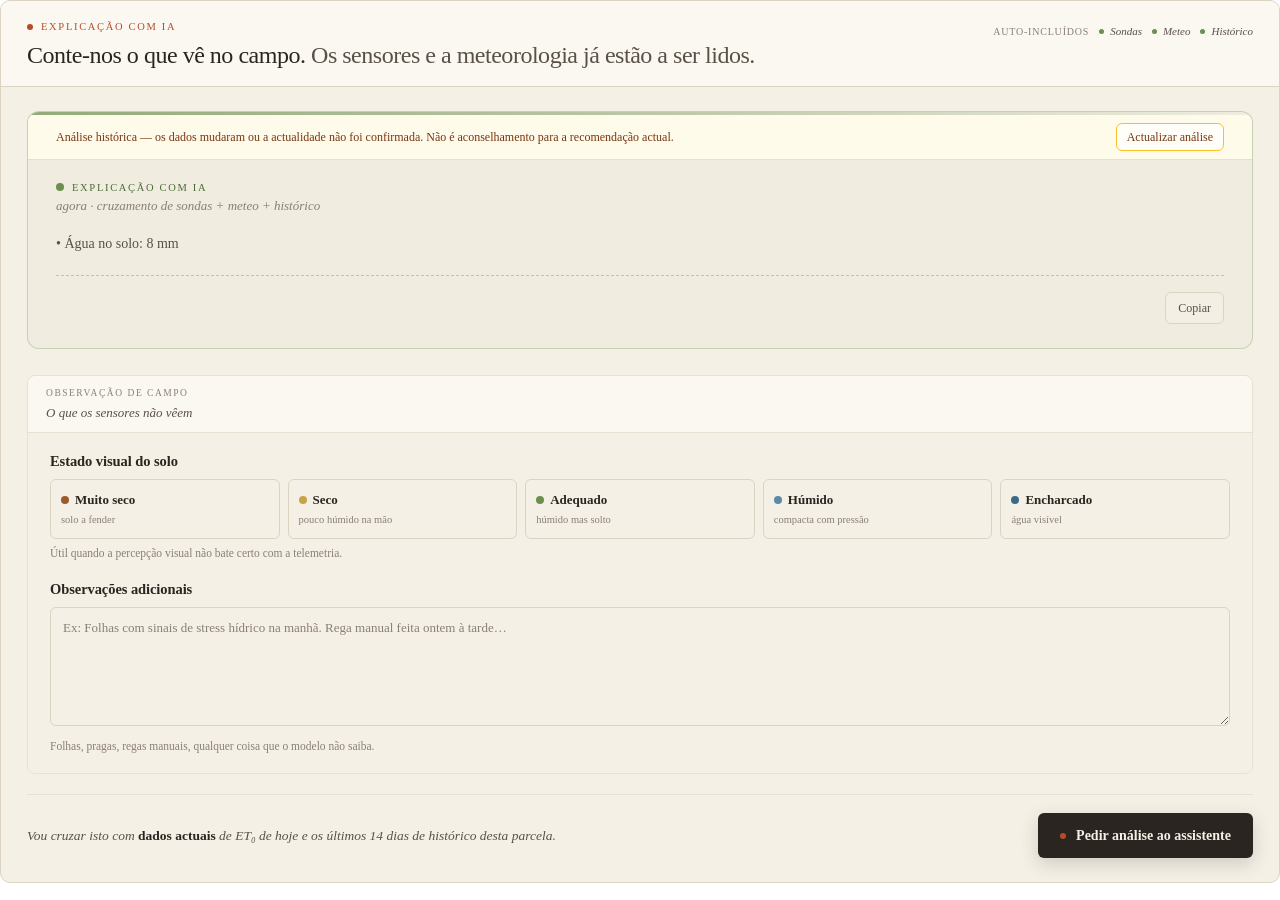
Scenario: SectorAnalysis freshness › refreshing replaces the analysis and clears the historical banner
Click the button "Actualizar análise": x=1170, y=136 [1116,122,1224,150]
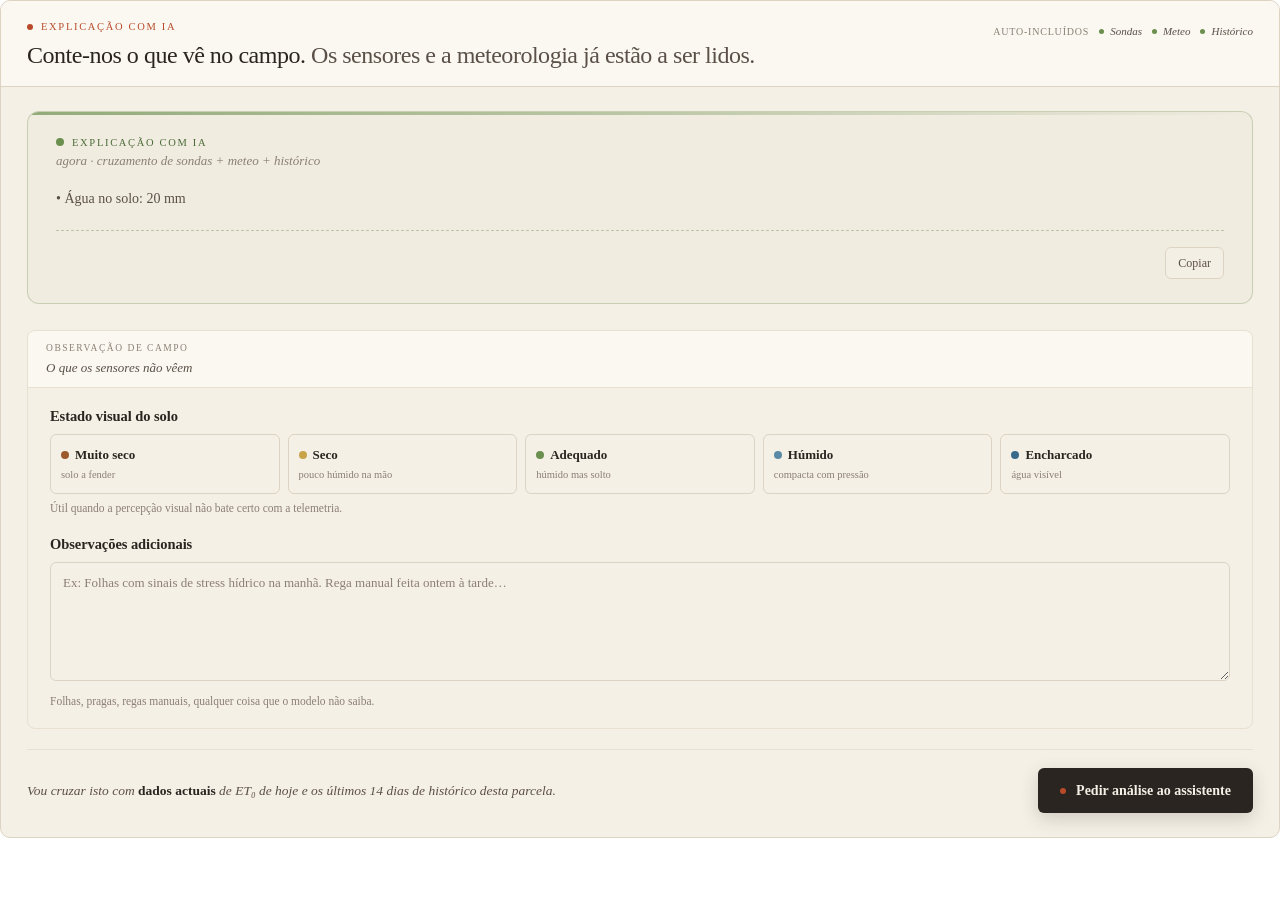
expect the text "• Água no solo: 20 mm" is shown: met, box [56,191,186,206]
expect the text "Análise histórica" is gone: met
